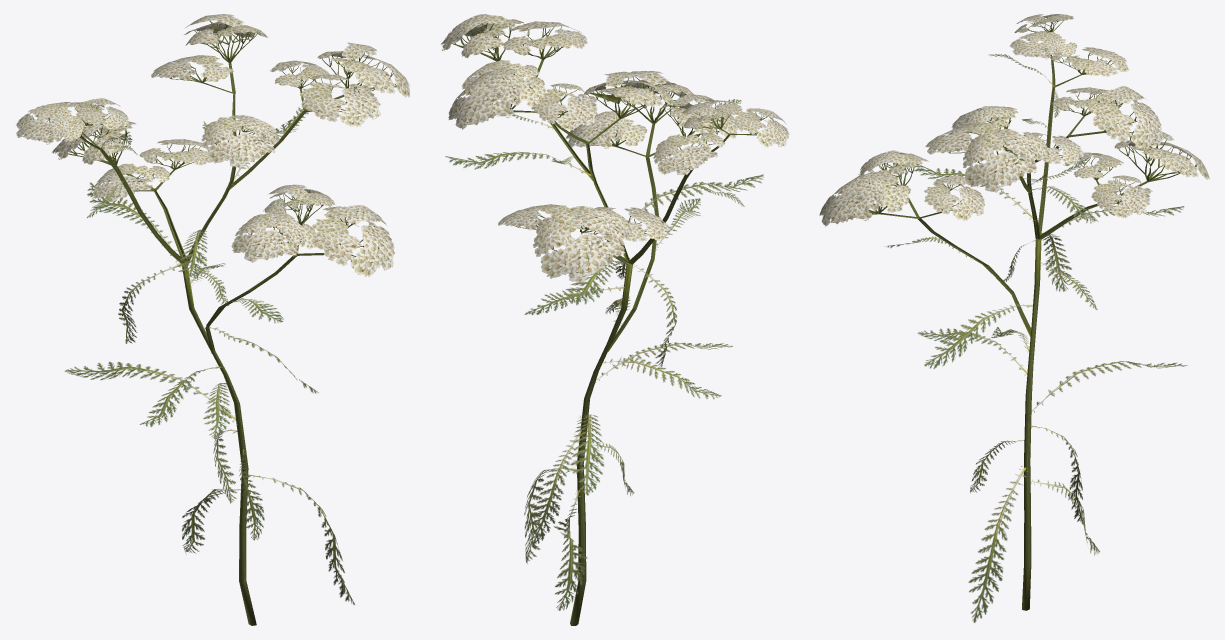
File: white_flower.glb
The picture shows the model from 3 angles, left to right: view 1: azimuth 30°, elevation 25°; view 2: azimuth 150°, elevation 25°; view 3: azimuth 270°, elevation 25°; orthographic projection. The views are drawn at different scales.
Parts seen in each view (by area): view 1: bq_Flower_Achillea-millefolium_D_spring-summer; view 2: bq_Flower_Achillea-millefolium_D_spring-summer; view 3: bq_Flower_Achillea-millefolium_D_spring-summer.
Boxes of the visible parts, box(x1,y1,x2,y2) form: bq_Flower_Achillea-millefolium_D_spring-summer: box(16, 14, 410, 625); bq_Flower_Achillea-millefolium_D_spring-summer: box(441, 14, 789, 625); bq_Flower_Achillea-millefolium_D_spring-summer: box(819, 14, 1209, 622).
Size of the model in its own units: 0.2183 by 0.327 by 0.2216.
3 materials, 3 textured.
